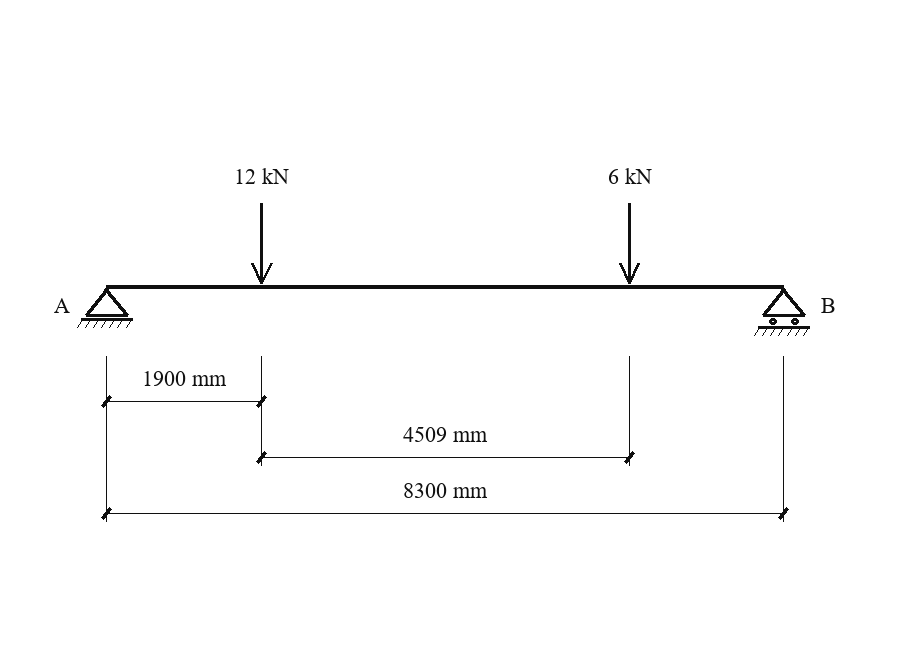pin_support: (77, 288, 133, 328)
point_load: (251, 203, 273, 284), (619, 203, 640, 284)
roller_support: (754, 288, 810, 336)
